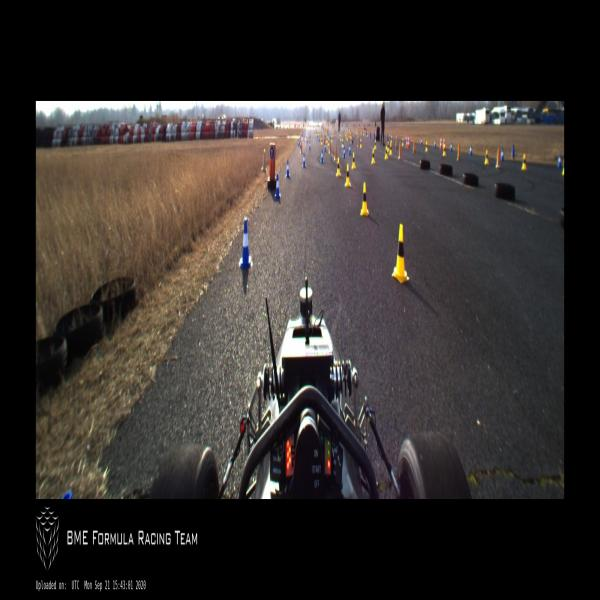blue_cone: (240, 221, 251, 269), (274, 173, 280, 199), (285, 159, 291, 178), (302, 153, 306, 167), (558, 154, 562, 168), (501, 147, 504, 162), (320, 149, 323, 163), (343, 146, 346, 158), (469, 144, 472, 155), (349, 143, 352, 154), (450, 143, 453, 151), (420, 137, 422, 146), (324, 143, 326, 151), (434, 140, 436, 147), (306, 136, 308, 143), (309, 140, 310, 150), (298, 140, 299, 146)
large_orange_cone: (407, 134, 410, 149), (405, 133, 408, 148), (440, 136, 442, 150), (443, 136, 445, 150)
unknown_cone: (261, 148, 267, 171), (496, 147, 501, 167), (398, 142, 402, 159), (457, 143, 460, 161), (334, 143, 337, 160), (329, 138, 332, 154), (511, 145, 515, 157), (413, 139, 416, 153), (395, 136, 398, 148), (300, 141, 303, 153), (358, 133, 360, 148), (303, 135, 305, 143), (387, 134, 388, 144)
yellow_cone: (392, 224, 409, 283), (360, 182, 369, 215), (344, 164, 351, 186), (336, 158, 341, 178), (352, 153, 356, 170), (522, 153, 526, 170), (371, 148, 375, 164), (485, 150, 489, 164), (385, 146, 388, 160), (389, 142, 392, 155), (374, 138, 377, 150), (443, 144, 446, 156), (562, 158, 564, 176), (425, 141, 428, 152), (387, 141, 389, 153), (401, 138, 404, 146), (341, 139, 344, 147), (360, 138, 362, 148), (321, 137, 323, 145), (340, 134, 342, 141), (331, 136, 333, 142), (391, 135, 392, 143), (328, 138, 329, 146)
